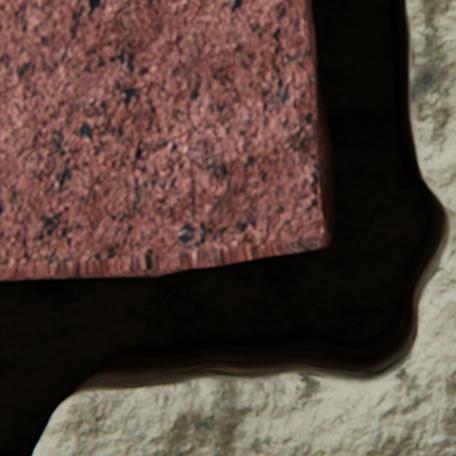brick: (0, 0, 323, 279)
crack: (0, 0, 454, 455)
